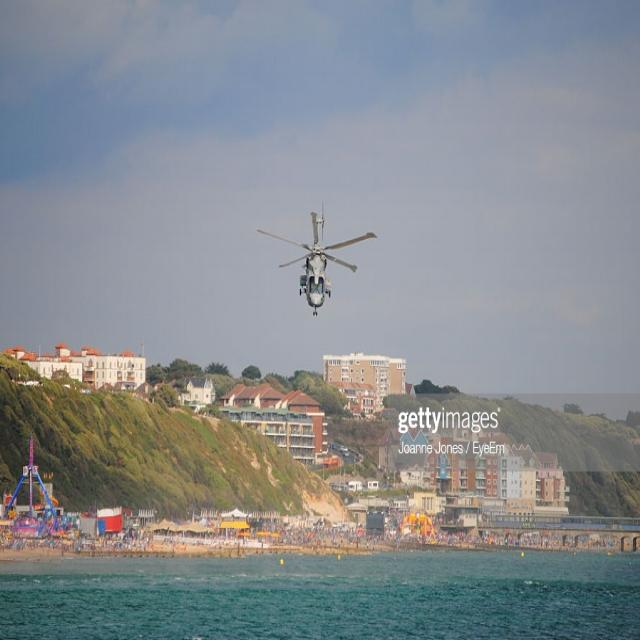helicopter: (258, 212, 377, 319)
